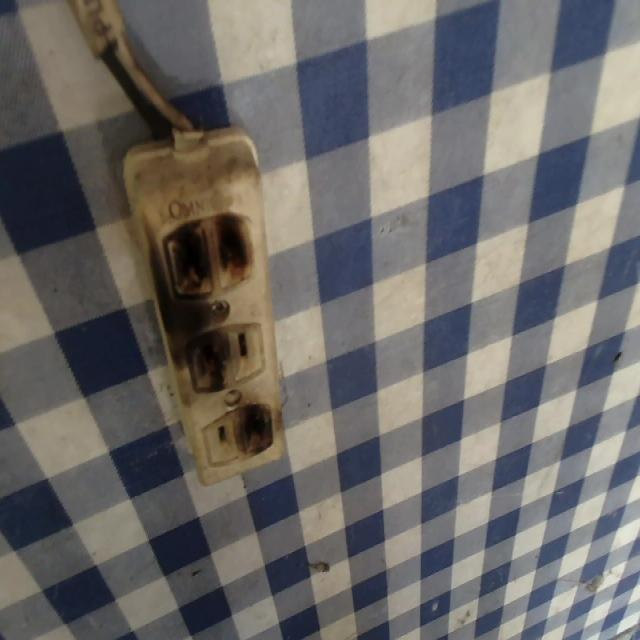-: (148, 208, 267, 295), (172, 327, 233, 400), (230, 399, 279, 465)
